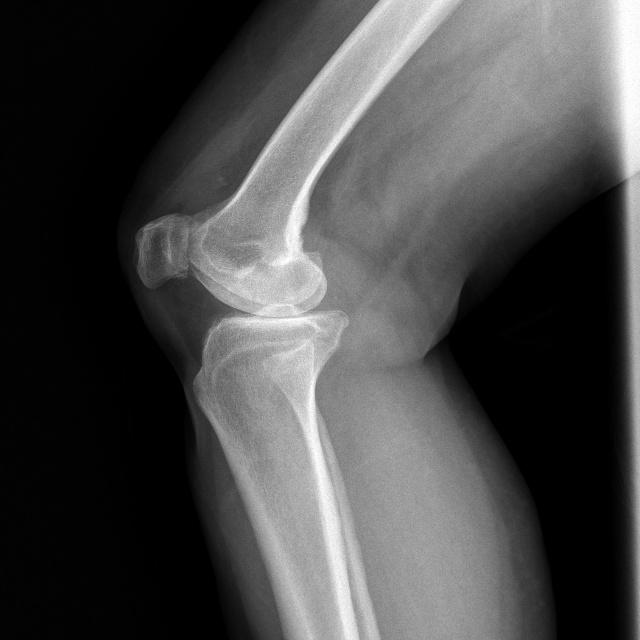Knee: (131, 200, 351, 395)
